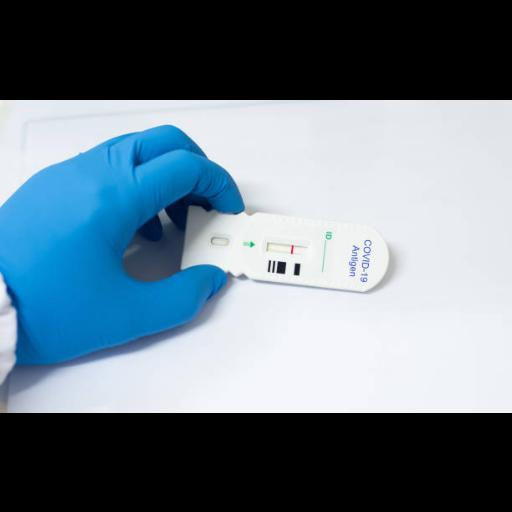Neg: (181, 205, 393, 297)
